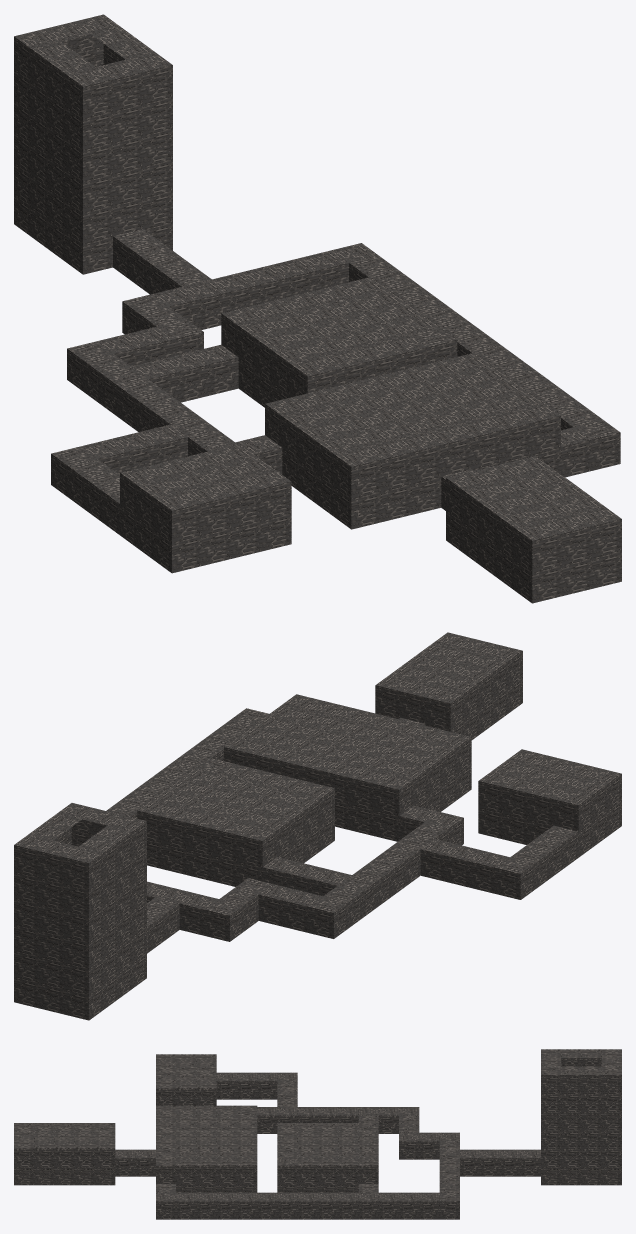
Rendered from MainLevel.fbx.
The picture shows the model from 3 angles, top to bottom: view 1: azimuth 30°, elevation 25°; view 2: azimuth 150°, elevation 25°; view 3: azimuth 270°, elevation 25°; orthographic projection. The views are drawn at different scales.
Parts seen in each view (by area): view 1: Beginning, Room_02, Room_01, End, Room_03, Hallway_01, Hallway_03, Hallway_04, Hallway_06, Hallway_05, Hallway_02; view 2: Beginning, Room_02, Room_01, End, Room_03, Hallway_03, Hallway_06, Hallway_01, Hallway_05, Hallway_04; view 3: Beginning, Room_02, End, Room_01, Hallway_04, Hallway_01, Room_03, Hallway_03, Hallway_02, Hallway_06, Hallway_05.
Boxes of the visible parts, <box> form: Beginning: <box>14,14,172,274</box>; Room_02: <box>265,352,560,529</box>; Room_01: <box>221,277,457,407</box>; End: <box>441,456,621,603</box>; Room_03: <box>120,443,291,573</box>; Hallway_01: <box>113,229,378,334</box>; Hallway_03: <box>67,306,238,417</box>; Hallway_04: <box>421,306,620,477</box>; Hallway_06: <box>51,424,187,534</box>; Hallway_05: <box>119,379,282,474</box>; Hallway_02: <box>349,255,447,312</box>; Beginning: <box>14,803,146,1020</box>; Room_02: <box>224,694,471,841</box>; Room_01: <box>137,758,334,886</box>; End: <box>375,632,522,739</box>; Room_03: <box>478,749,621,857</box>; Hallway_03: <box>219,857,377,938</box>; Hallway_06: <box>420,825,578,899</box>; Hallway_01: <box>147,881,244,953</box>; Hallway_05: <box>352,805,463,906</box>; Hallway_04: <box>106,708,268,818</box>; Beginning: <box>541,1049,621,1185</box>; Room_02: <box>156,1105,257,1192</box>; End: <box>14,1123,155,1185</box>; Room_01: <box>277,1123,378,1192</box>; Hallway_04: <box>156,1184,358,1219</box>; Hallway_01: <box>439,1132,540,1219</box>; Room_03: <box>156,1054,216,1105</box>; Hallway_03: <box>358,1107,439,1159</box>; Hallway_02: <box>358,1184,439,1219</box>; Hallway_06: <box>216,1072,297,1106</box>; Hallway_05: <box>257,1107,358,1133</box>.
Bounding box in the file's own units: 6000 × 2400 × 12000.
